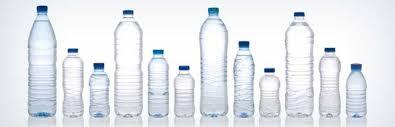Plastic bottle: (18, 3, 56, 121), (198, 6, 232, 122), (111, 8, 144, 124), (283, 9, 310, 127), (315, 37, 342, 125), (236, 30, 258, 127), (61, 42, 85, 125), (343, 58, 374, 119), (148, 37, 170, 122), (89, 55, 111, 127), (259, 61, 282, 124), (174, 60, 196, 118)
